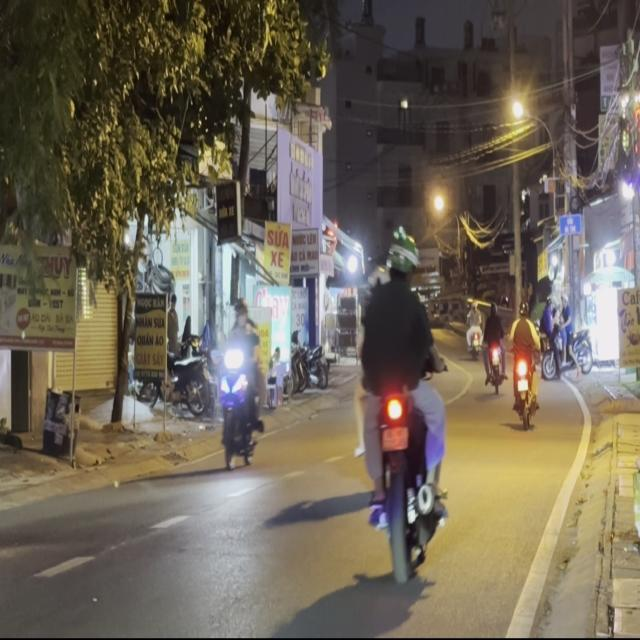helmet: (385, 227, 419, 284)
licenseplate: (351, 225, 449, 588), (216, 294, 267, 473)
nohelmet: (381, 424, 408, 449)
